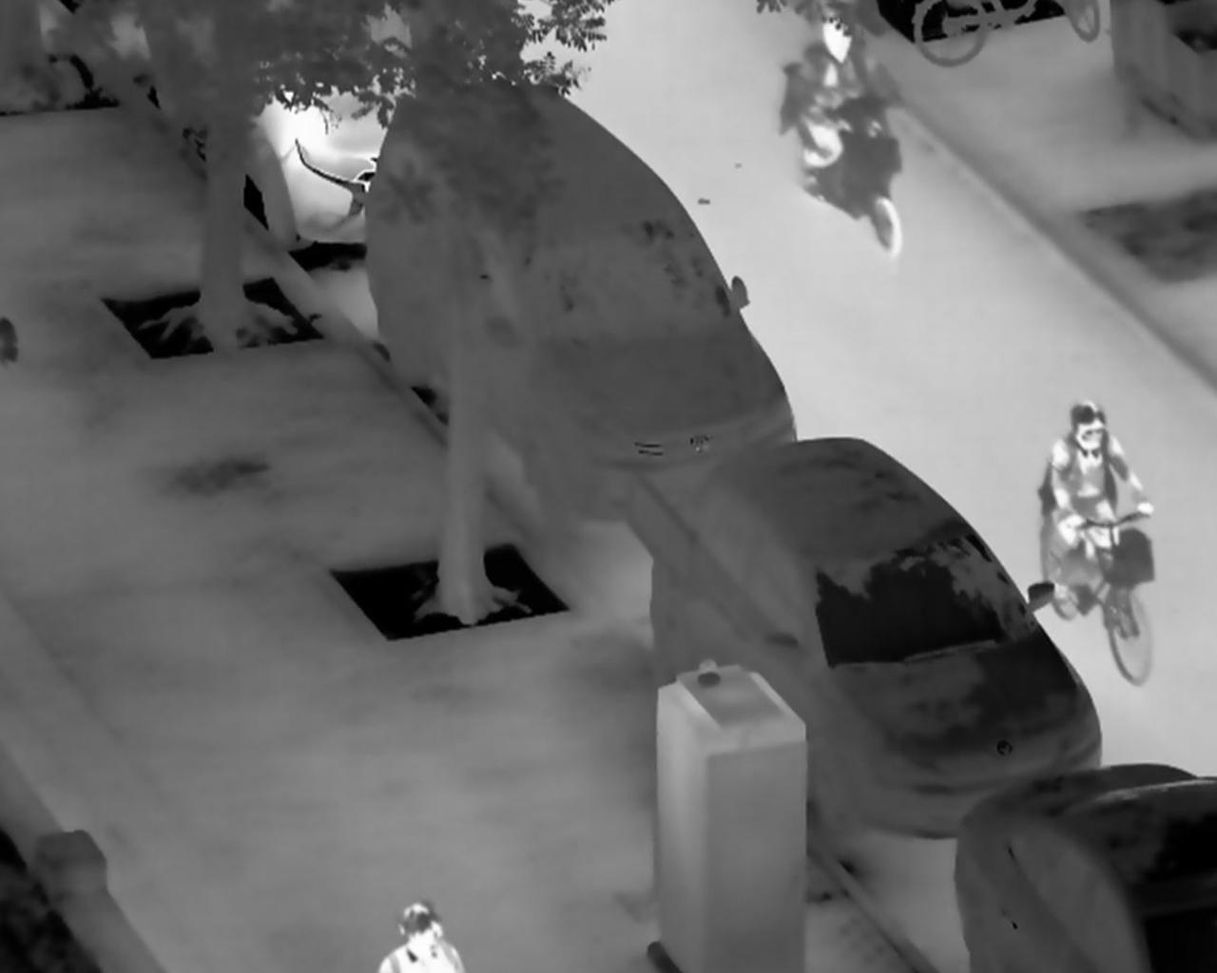person: (1038, 398, 1154, 619), (782, 13, 900, 180)
